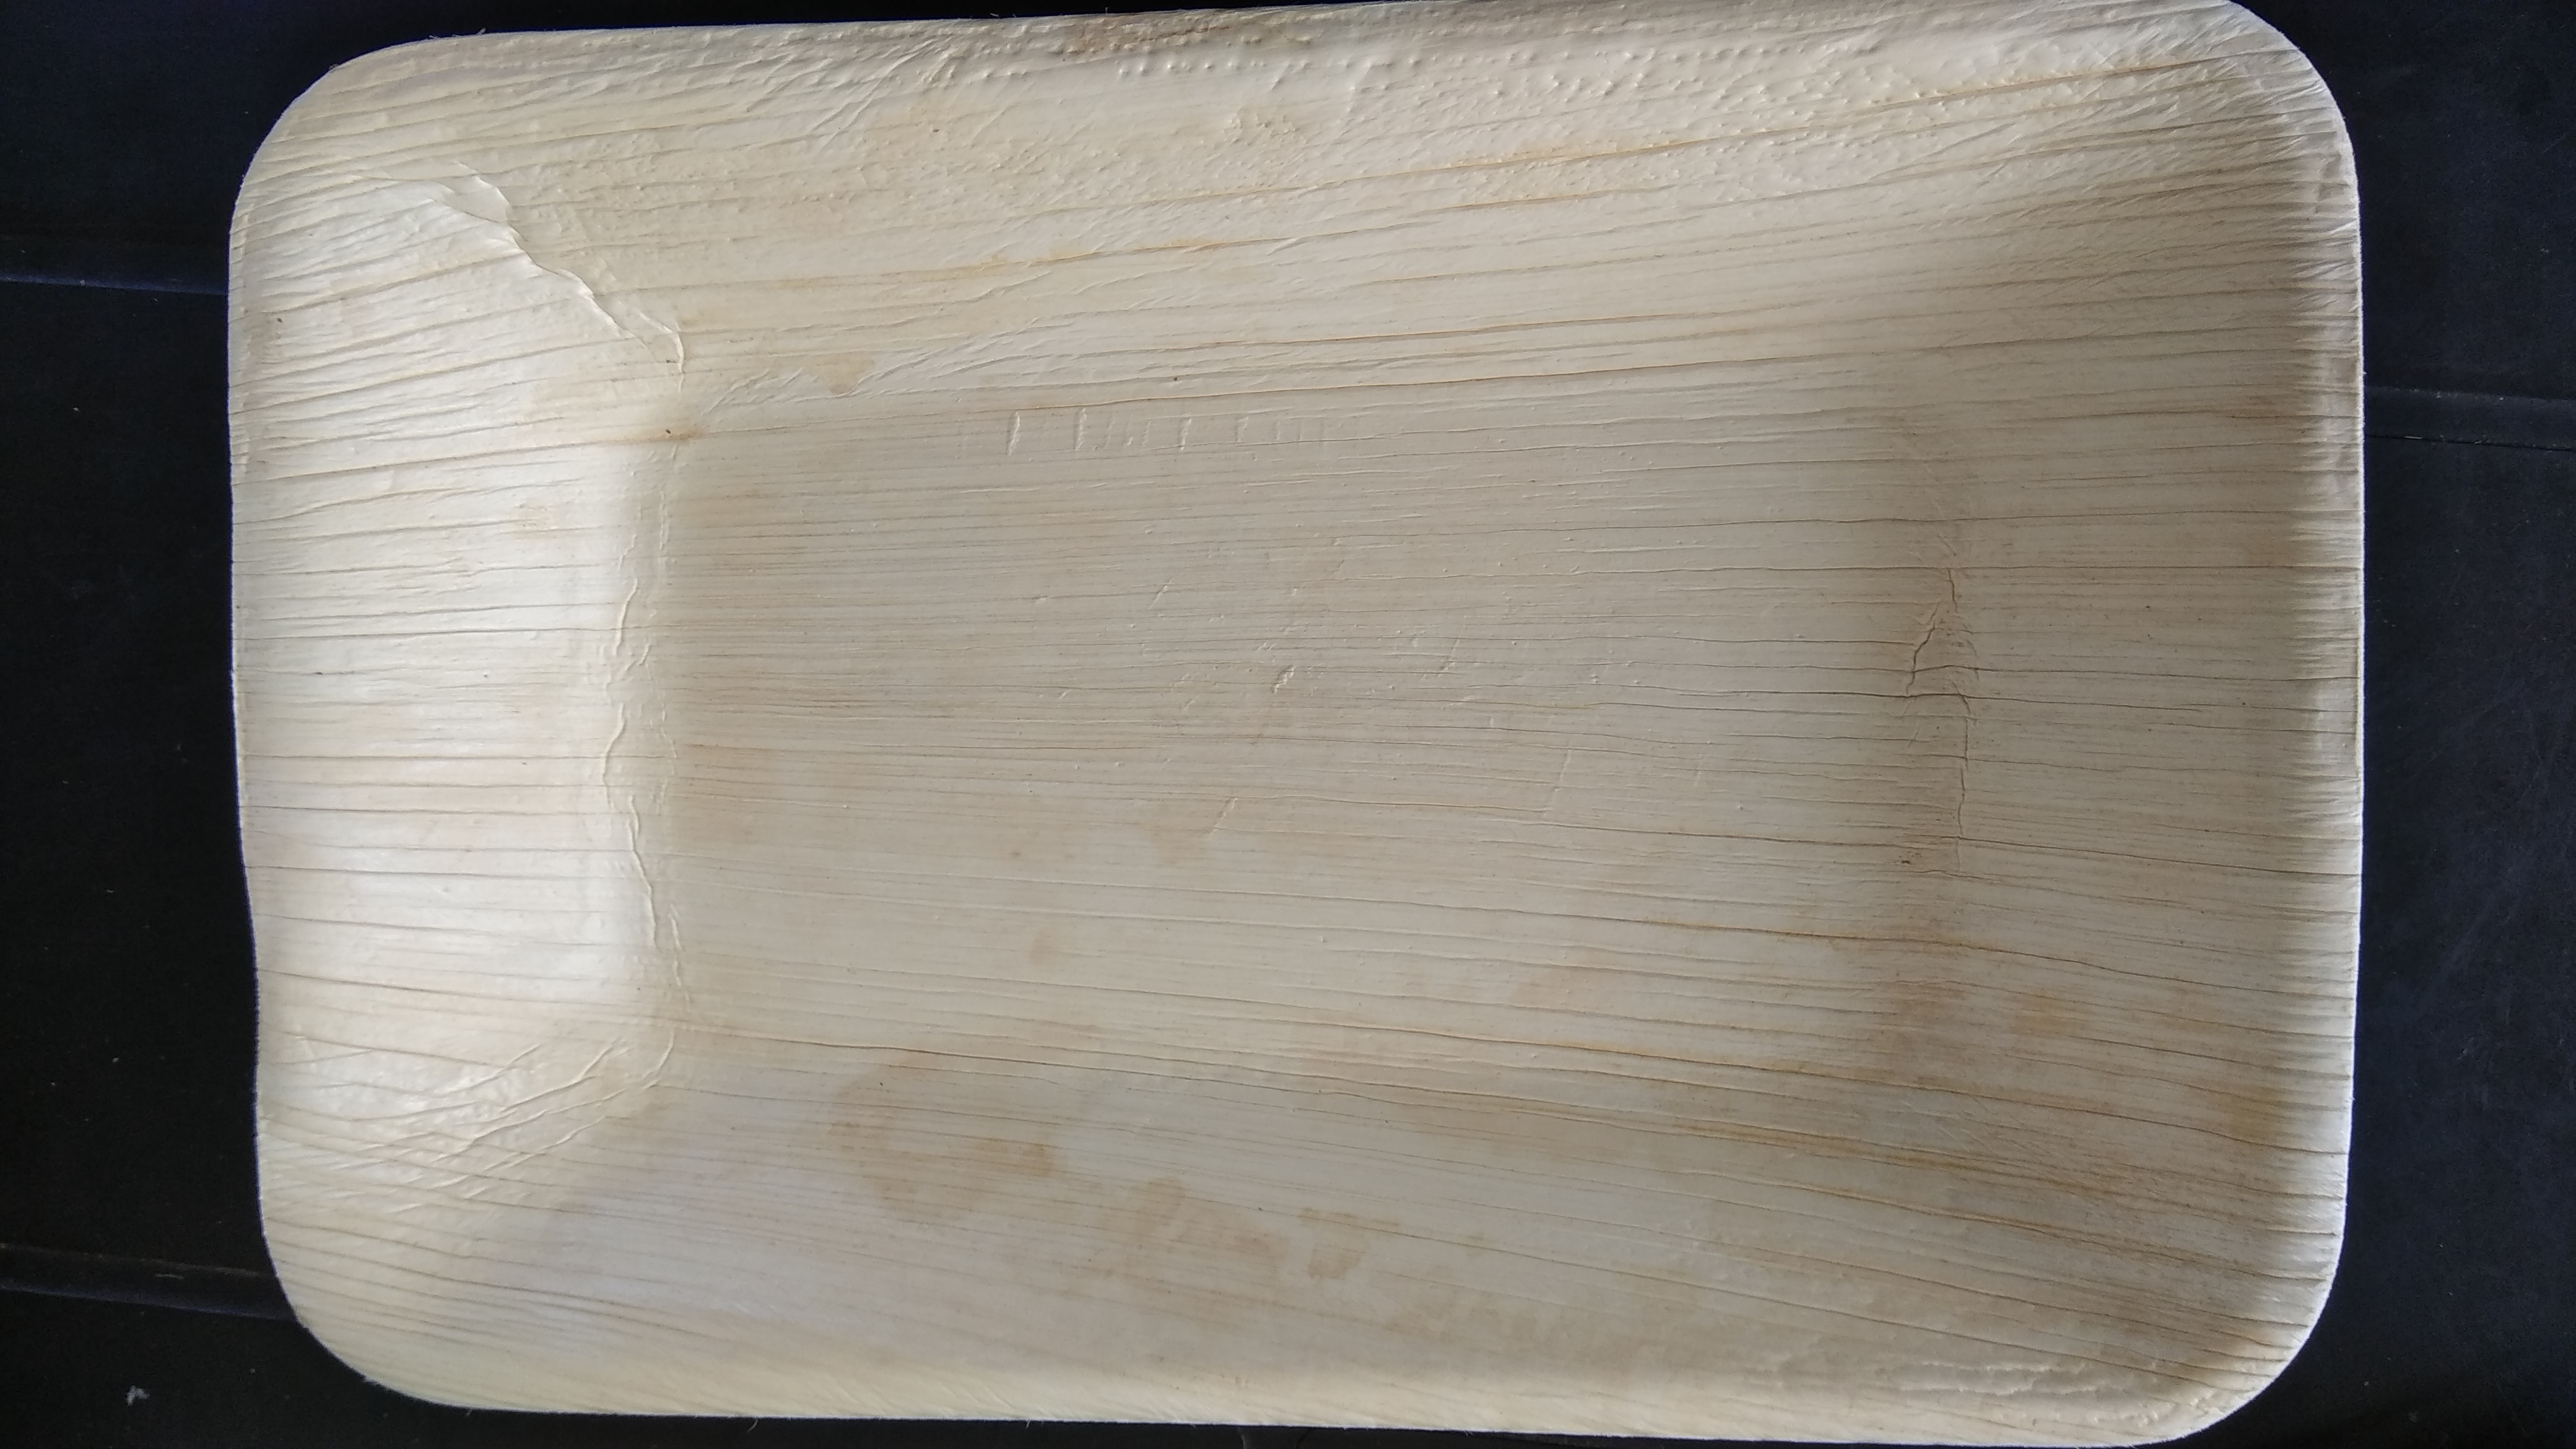areca plate: (209, 5, 2364, 1424)
